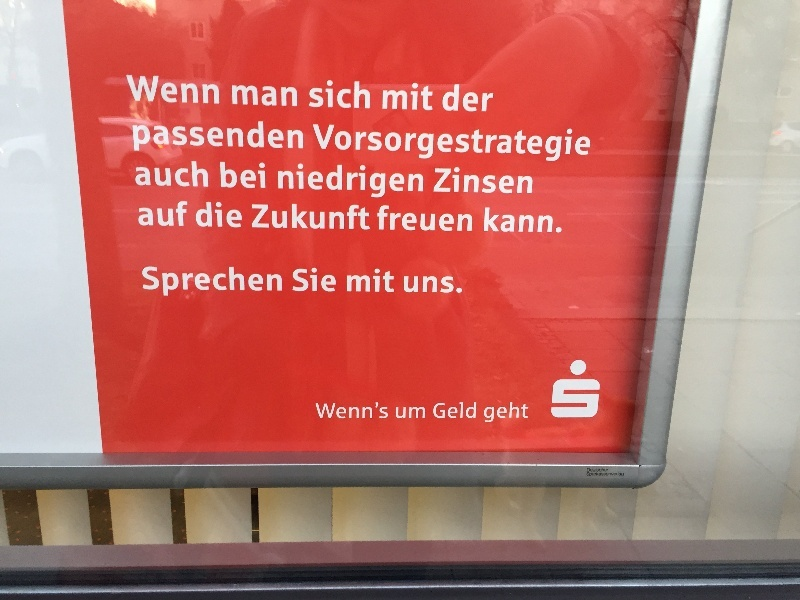text: (561, 360, 576, 418), (577, 360, 592, 418), (321, 124, 336, 162), (337, 124, 352, 162), (353, 124, 368, 162), (369, 124, 384, 162), (385, 124, 400, 162), (401, 124, 416, 162), (417, 124, 432, 162), (433, 124, 448, 162), (449, 124, 464, 162), (289, 163, 304, 200), (305, 163, 320, 200), (321, 163, 336, 200), (337, 163, 352, 200), (353, 163, 368, 200), (369, 163, 384, 200), (385, 163, 400, 200), (401, 163, 416, 200), (593, 360, 602, 418), (289, 121, 305, 152), (145, 266, 160, 298), (161, 266, 176, 298), (177, 266, 192, 298), (193, 266, 208, 298), (209, 266, 224, 298), (225, 266, 240, 298), (241, 266, 256, 298), (257, 266, 272, 298), (145, 121, 160, 152), (161, 121, 176, 152), (177, 121, 192, 152), (193, 121, 208, 152), (209, 121, 224, 152), (225, 121, 240, 152), (241, 121, 256, 152), (257, 121, 272, 152), (273, 121, 288, 152), (417, 83, 433, 112), (129, 75, 144, 105), (145, 75, 160, 105), (161, 75, 176, 105), (177, 75, 192, 105), (193, 75, 208, 105), (321, 79, 336, 109), (337, 79, 352, 109), (353, 79, 368, 109), (385, 83, 400, 112), (401, 83, 416, 112), (449, 84, 464, 112), (465, 84, 480, 112), (385, 205, 400, 232), (401, 205, 416, 232), (417, 205, 432, 232), (433, 205, 448, 232), (449, 205, 464, 232), (257, 203, 272, 230), (273, 203, 288, 230), (289, 203, 304, 230), (305, 203, 320, 230), (321, 203, 336, 230), (337, 203, 352, 230), (353, 203, 368, 230), (449, 167, 464, 194), (465, 167, 480, 194), (481, 167, 496, 194), (497, 167, 512, 194), (513, 167, 528, 194), (225, 162, 240, 189), (241, 162, 256, 189), (321, 267, 337, 292), (193, 162, 209, 187), (209, 202, 224, 228), (225, 202, 240, 228), (145, 201, 160, 227), (161, 201, 176, 227), (353, 267, 368, 292), (369, 267, 384, 292), (305, 267, 320, 292), (497, 208, 512, 233), (513, 208, 528, 233), (529, 208, 544, 233), (545, 208, 560, 233), (145, 162, 160, 187), (161, 162, 176, 187), (177, 162, 192, 187), (132, 121, 144, 152), (278, 163, 288, 200), (481, 84, 494, 112), (209, 75, 221, 105), (513, 402, 529, 424), (435, 167, 448, 194), (195, 202, 208, 228), (497, 402, 512, 424), (309, 79, 320, 109), (241, 86, 256, 107), (257, 86, 272, 107), (273, 86, 288, 107), (482, 402, 496, 424), (555, 360, 560, 418), (273, 266, 282, 298), (177, 201, 188, 227), (293, 267, 304, 292), (485, 208, 496, 233), (417, 276, 432, 294), (433, 276, 448, 294), (313, 124, 320, 162), (417, 163, 424, 200), (433, 402, 448, 419), (449, 402, 464, 419), (321, 402, 336, 419), (337, 402, 352, 419), (353, 402, 368, 419), (369, 402, 384, 419), (257, 162, 266, 189), (449, 276, 462, 294), (385, 267, 394, 292), (135, 162, 144, 187), (404, 276, 416, 294), (465, 205, 473, 232), (465, 402, 477, 419), (377, 205, 384, 232), (289, 86, 298, 107), (232, 86, 240, 107), (442, 84, 448, 112), (401, 408, 416, 419), (138, 201, 144, 227), (529, 167, 534, 194), (347, 267, 352, 292), (465, 124, 468, 162), (252, 203, 256, 230), (220, 162, 224, 189), (417, 408, 425, 419), (315, 402, 320, 419), (142, 266, 144, 298), (126, 75, 128, 105), (369, 79, 371, 109), (241, 202, 243, 228), (385, 402, 388, 419), (561, 208, 563, 233), (396, 408, 400, 419), (383, 83, 384, 112), (369, 203, 370, 230)
